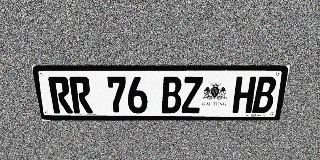6: (127, 77, 148, 113)
7: (105, 77, 128, 113)
B: (252, 77, 277, 113), (162, 77, 182, 113)
H: (232, 77, 257, 113)
R: (48, 77, 73, 113), (69, 77, 93, 113)
Z: (181, 77, 203, 113)
